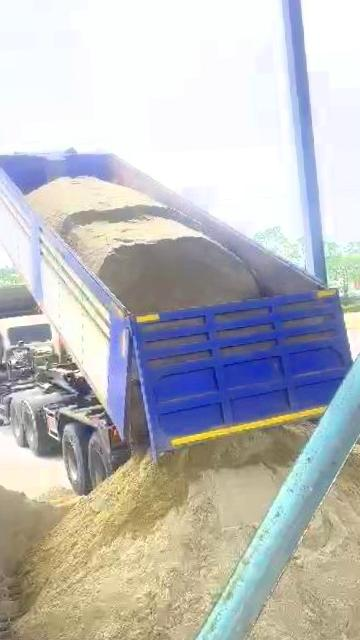sand: (14, 426, 309, 640), (27, 177, 259, 314), (229, 447, 360, 640), (0, 480, 82, 582), (130, 375, 149, 447)
